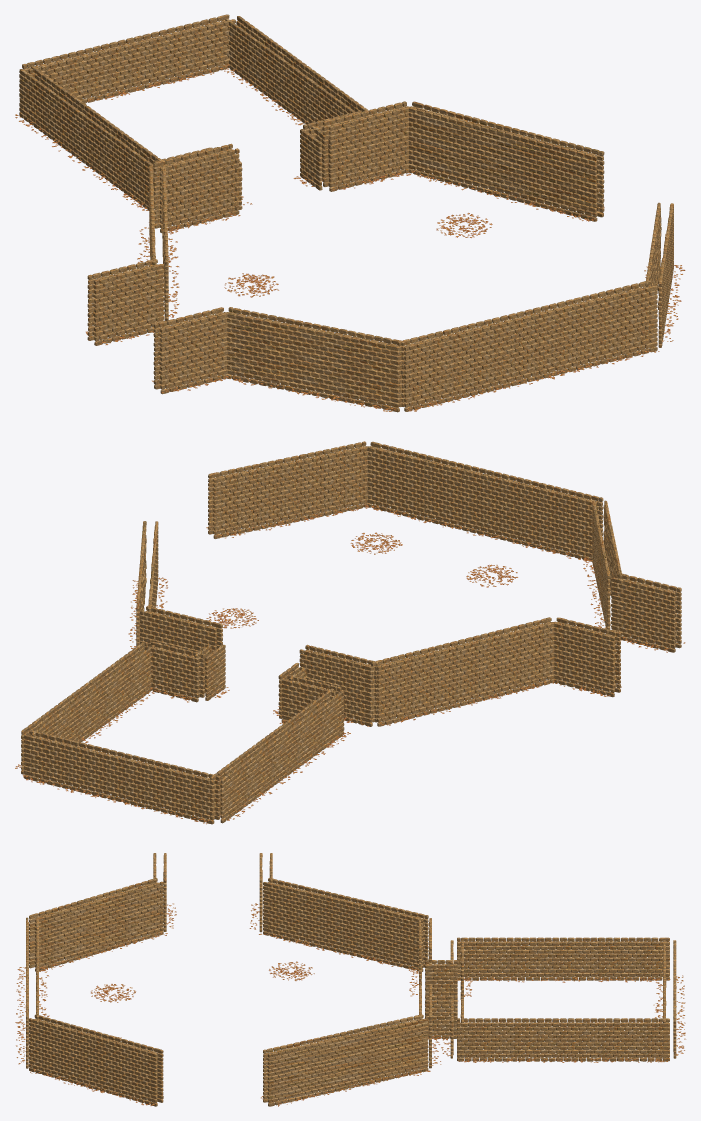
The model's file is AutumnDetailRoom07.fbx.
3 views of the same model, one above another, from view 1: azimuth 30°, elevation 25°; view 2: azimuth 150°, elevation 25°; view 3: azimuth 270°, elevation 25° (orthographic). The views are drawn at different scales.
Parts seen in each view (by area): view 1: R07_AutumnStonework_LOD0, R07_AutumnLeafDrifts_LOD0; view 2: R07_AutumnStonework_LOD0, R07_AutumnLeafDrifts_LOD0; view 3: R07_AutumnStonework_LOD0, R07_AutumnLeafDrifts_LOD0.
Boxes of the visible parts, x1,y1,x2,y2 form: R07_AutumnStonework_LOD0: (19,14,673,412); R07_AutumnLeafDrifts_LOD0: (15,64,685,411); R07_AutumnStonework_LOD0: (21,441,681,824); R07_AutumnLeafDrifts_LOD0: (15,505,685,824); R07_AutumnStonework_LOD0: (26,853,676,1106); R07_AutumnLeafDrifts_LOD0: (15,903,685,1106).
Size of what is drawn, in the model's own units: 45.79 by 5.47 by 63.37.
